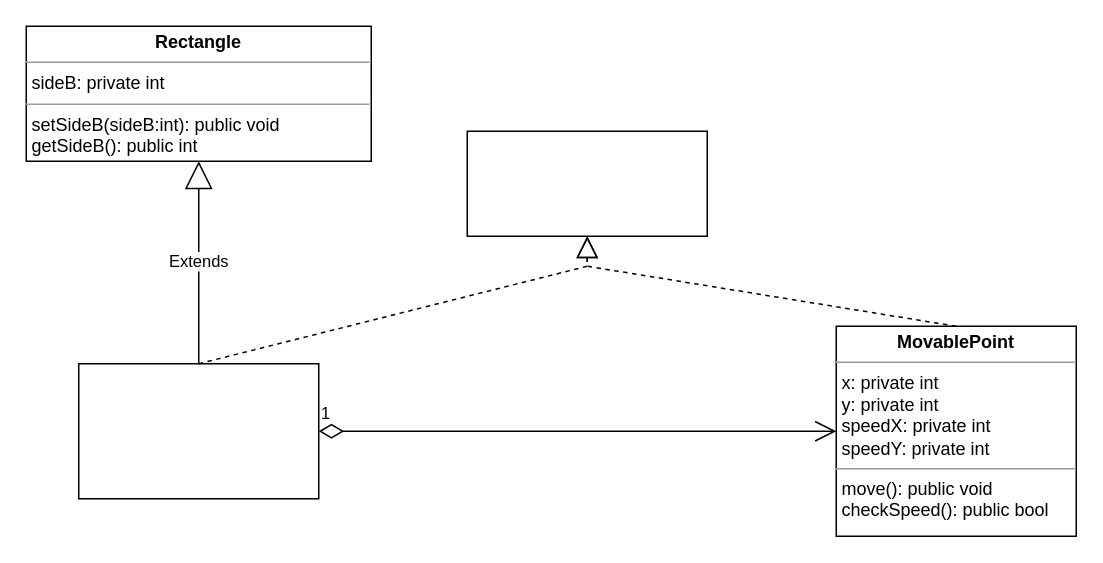
This 1103x563 diagram has some shape labels left out. Each missing label, with the centre of its shape:
"<<Interface>> Movable move(): public void" belongs at [586,183].
"MovableRectangle pointA: MovablePoint pointB: MovablePoint move(): public void" belongs at [198,430].
